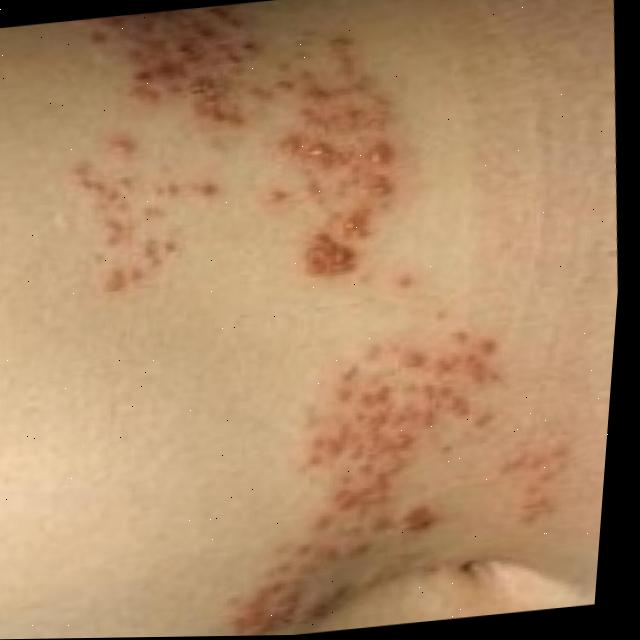Shingles: (223, 318, 576, 636), (48, 0, 405, 293)
